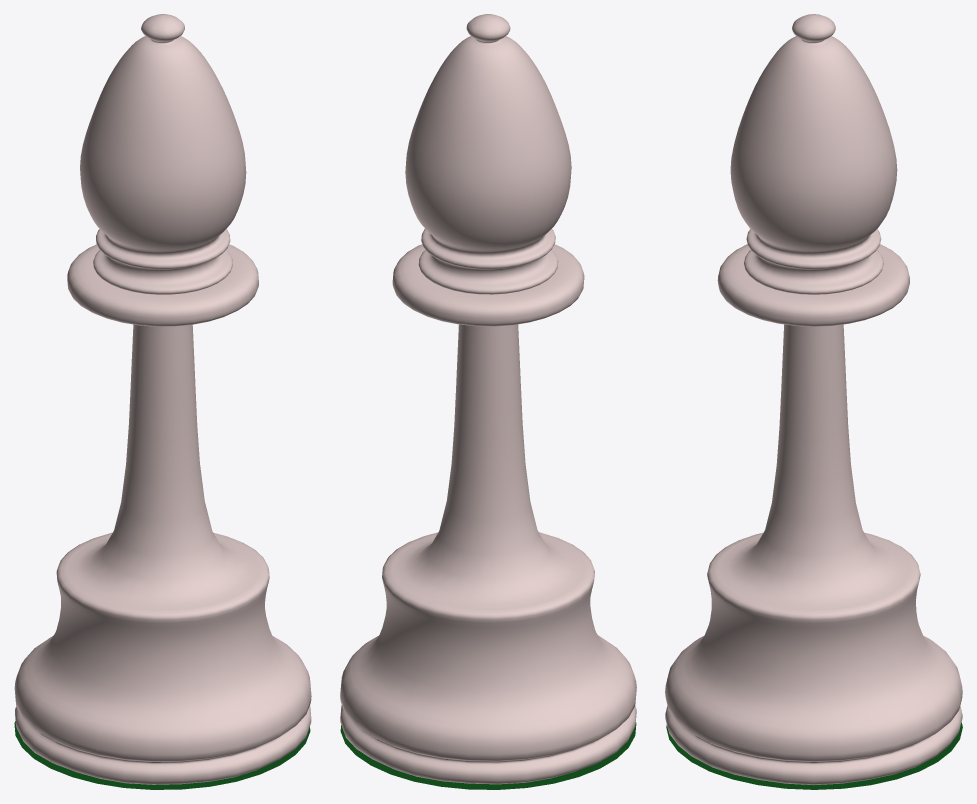
The model's file is goniec.obj.
The picture shows the model from 3 angles, left to right: view 1: azimuth 30°, elevation 25°; view 2: azimuth 150°, elevation 25°; view 3: azimuth 270°, elevation 25°; orthographic projection.
Parts seen in each view (by area): view 1: Lber-m_Mrke-brikker.004, Lber-m_Filt.004; view 2: Lber-m_Mrke-brikker.004, Lber-m_Filt.004; view 3: Lber-m_Mrke-brikker.004, Lber-m_Filt.004.
Boxes of the visible parts, bbox=[...] form: Lber-m_Mrke-brikker.004: bbox=[14, 14, 311, 784]; Lber-m_Filt.004: bbox=[14, 721, 310, 789]; Lber-m_Mrke-brikker.004: bbox=[340, 14, 636, 784]; Lber-m_Filt.004: bbox=[340, 722, 636, 789]; Lber-m_Mrke-brikker.004: bbox=[665, 14, 962, 785]; Lber-m_Filt.004: bbox=[666, 722, 962, 789].
Size of the model in its own units: 3.78 by 9.97 by 3.78.
